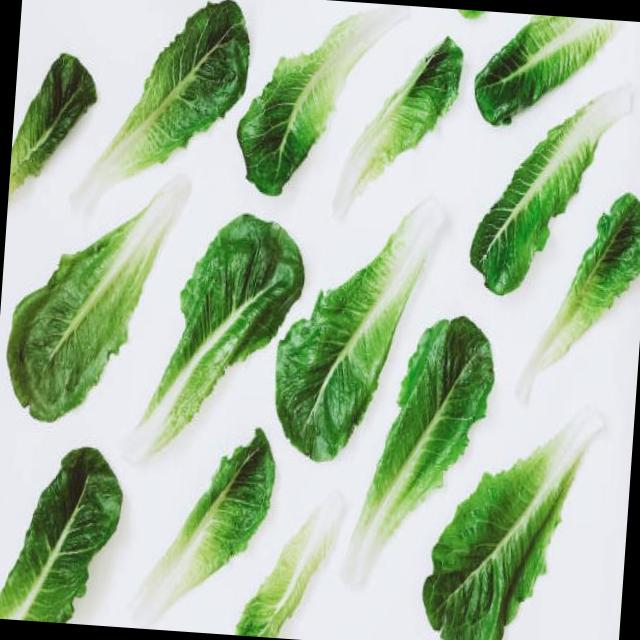Lettuce-Ready-to-Harvest: (7, 179, 189, 420), (275, 203, 445, 460), (131, 213, 303, 454), (422, 413, 601, 640), (346, 316, 494, 579), (470, 90, 630, 293), (88, 0, 248, 186), (237, 8, 396, 194), (137, 429, 275, 621), (519, 194, 640, 395), (335, 38, 463, 208), (0, 448, 120, 622), (475, 14, 613, 124), (236, 502, 340, 637), (8, 55, 95, 190)
